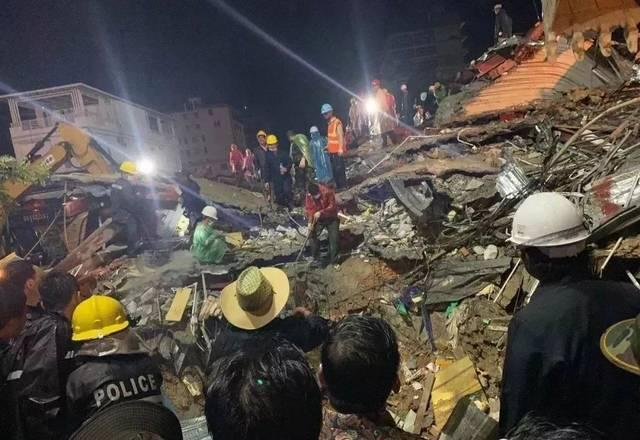helmet: (511, 192, 590, 248), (70, 295, 136, 342), (122, 162, 136, 175), (322, 103, 334, 116), (267, 136, 277, 148), (258, 131, 266, 138), (374, 81, 382, 88)
